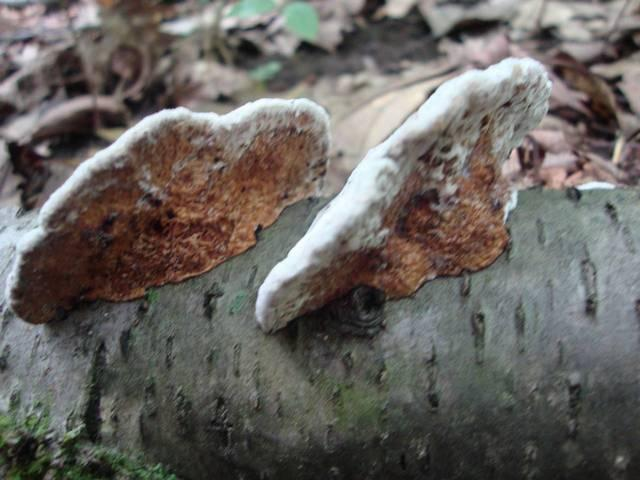Non-edible Mushroom: (252, 54, 553, 335), (16, 98, 320, 320)
